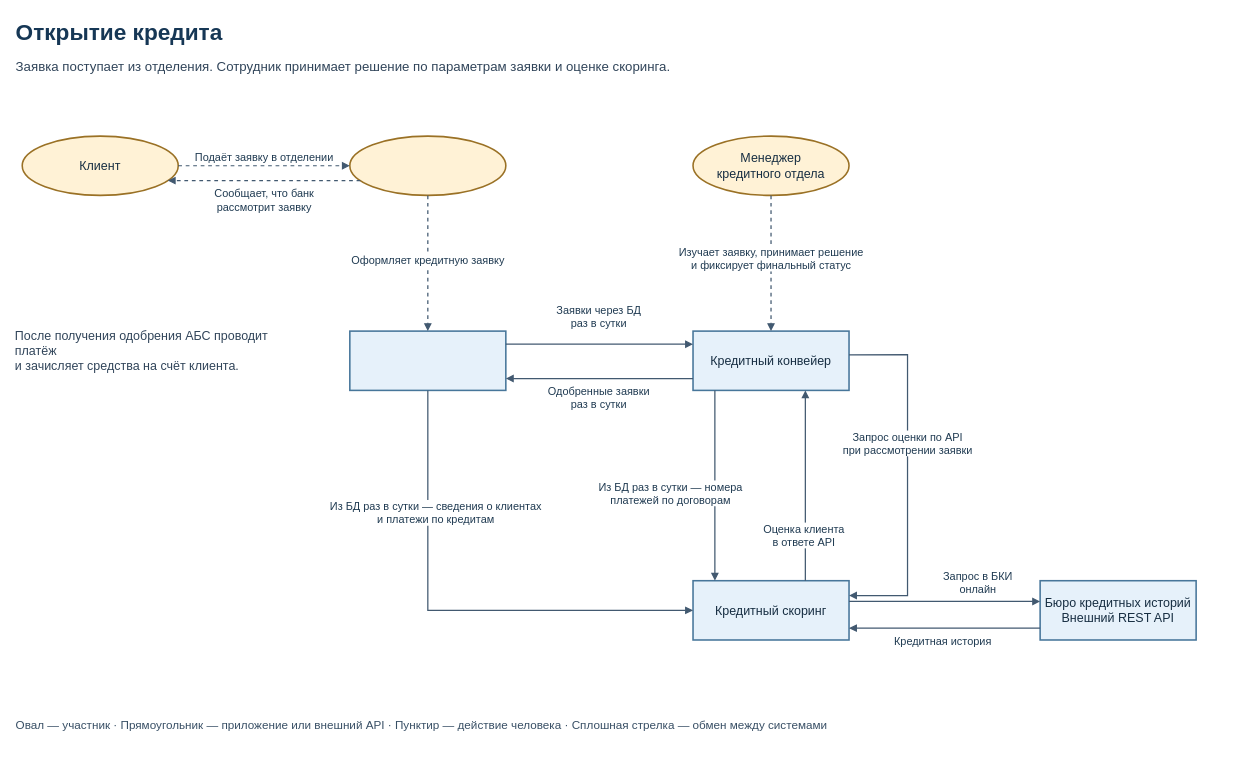
Image size: 1260x764. Some labels were removed from this diagram. Each missing label, with the centre of its shape:
АБС: point 427,360
Сотрудник отделения: point 427,165
